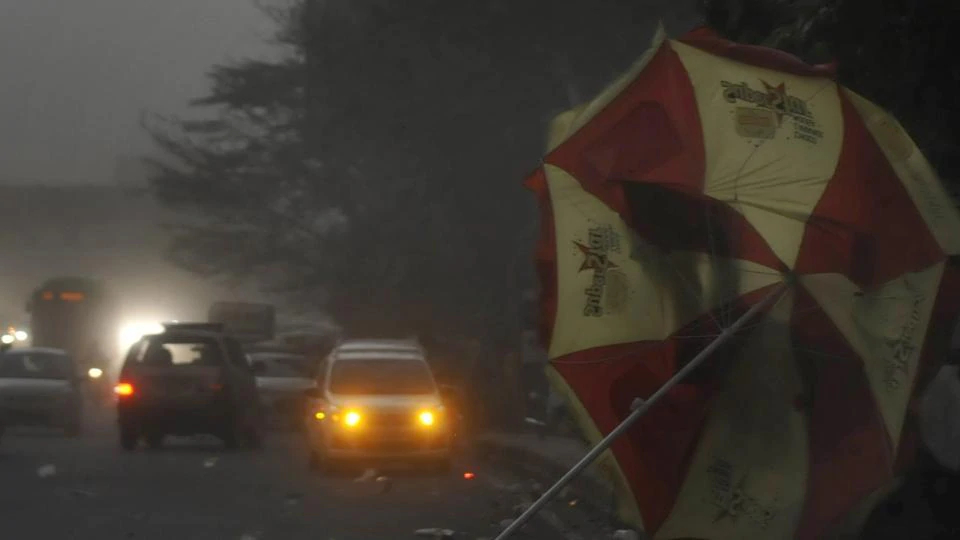bus: (30, 279, 118, 394)
car: (301, 340, 459, 476), (109, 323, 264, 452), (0, 345, 84, 435), (244, 339, 323, 429)
